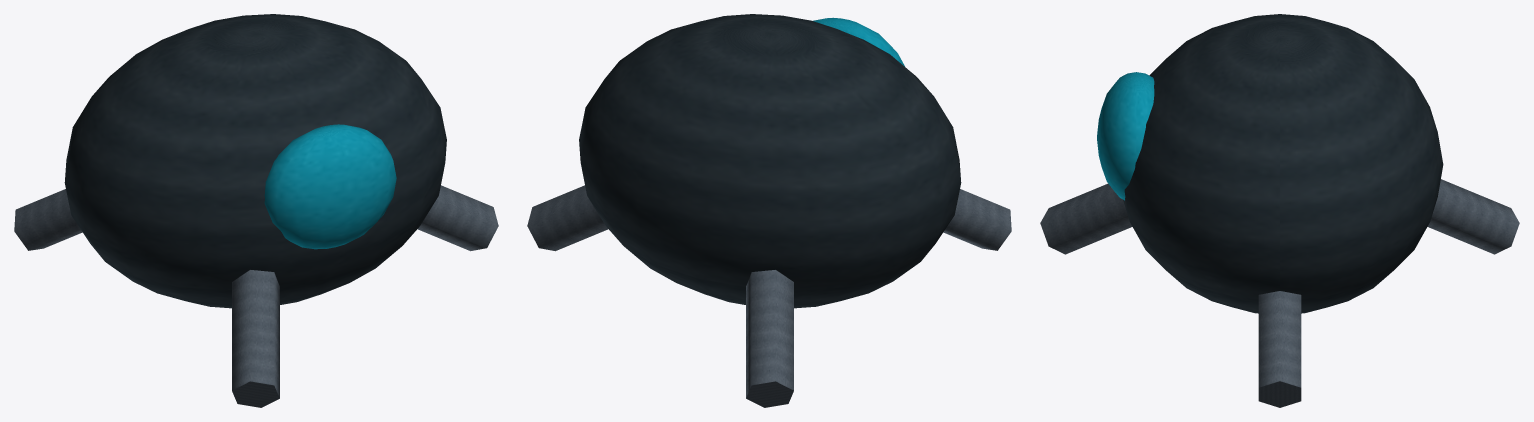
File: Beacon.fbx
3 views of the same model, side by side, from view 1: azimuth 30°, elevation 25°; view 2: azimuth 150°, elevation 25°; view 3: azimuth 270°, elevation 25° (orthographic).
Parts seen in each view (by area): view 1: ST_Beacon_Source; view 2: ST_Beacon_Source; view 3: ST_Beacon_Source.
Part boxes in pixels (x1,y1,x2,y2): ST_Beacon_Source: (14,14,498,407); ST_Beacon_Source: (527,14,1011,407); ST_Beacon_Source: (1040,14,1519,407).
Size of the model in its own units: 9.47 by 5.92 by 9.69.
Materials: 3 (3 with a texture image).
